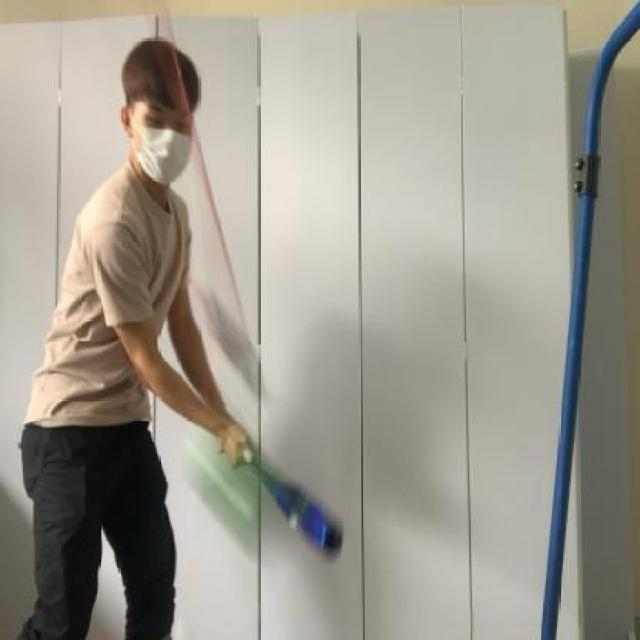baseball: (190, 434, 301, 560)
